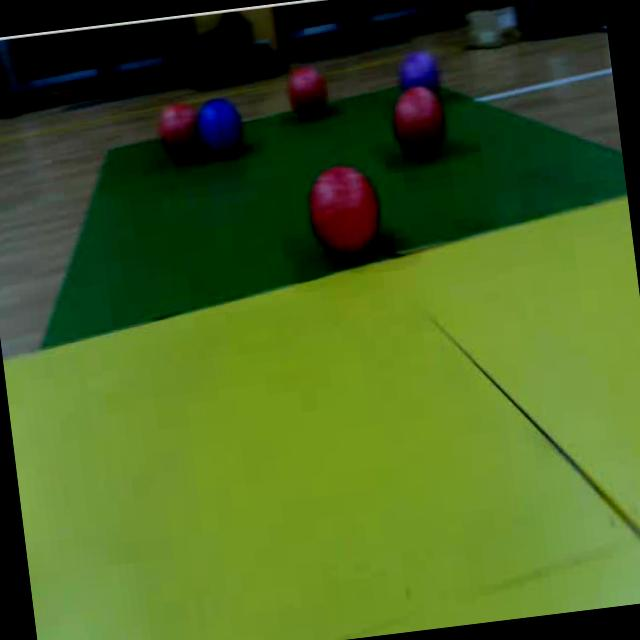blue_ball: (194, 94, 249, 162)
purple_ball: (395, 46, 444, 90)
red_ball: (298, 156, 394, 266), (388, 87, 454, 168), (279, 58, 334, 124), (153, 97, 203, 169)
